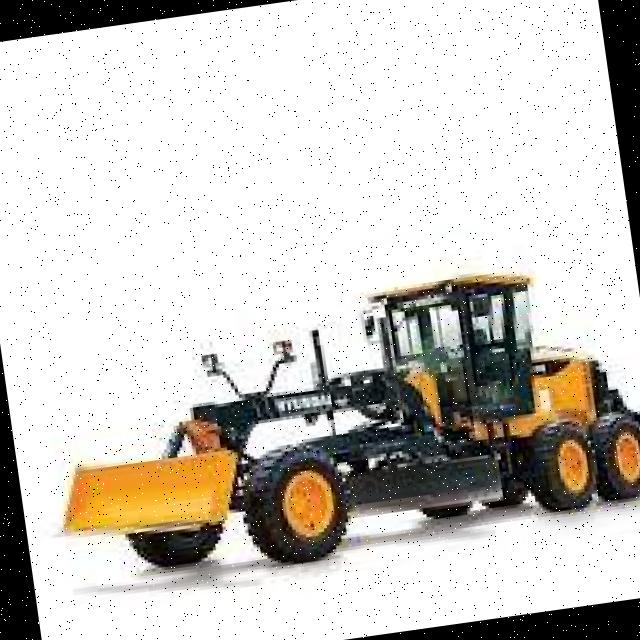Grader: (21, 232, 640, 607)
